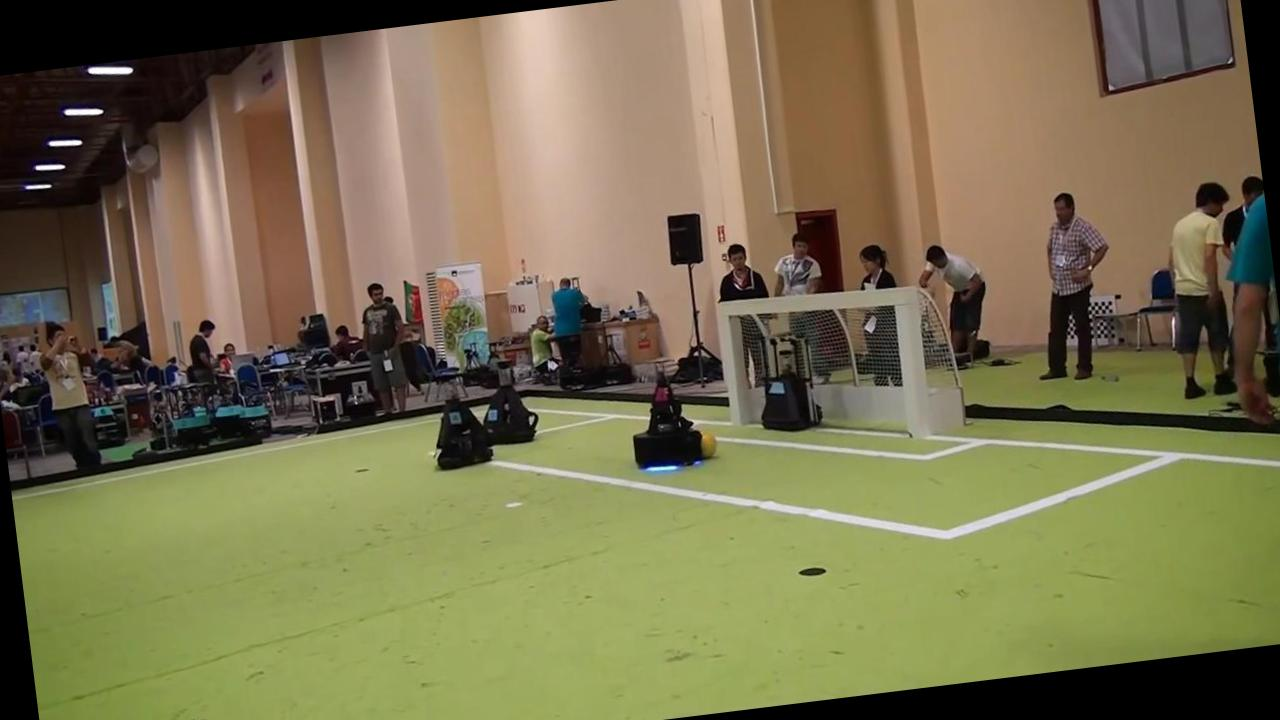ball: (700, 430, 717, 458)
goal: (892, 289, 931, 437), (717, 302, 742, 424)
person: (1169, 181, 1235, 399), (1040, 192, 1108, 381)
robot: (632, 365, 703, 468), (760, 332, 821, 432), (436, 374, 493, 470), (483, 362, 539, 445)
